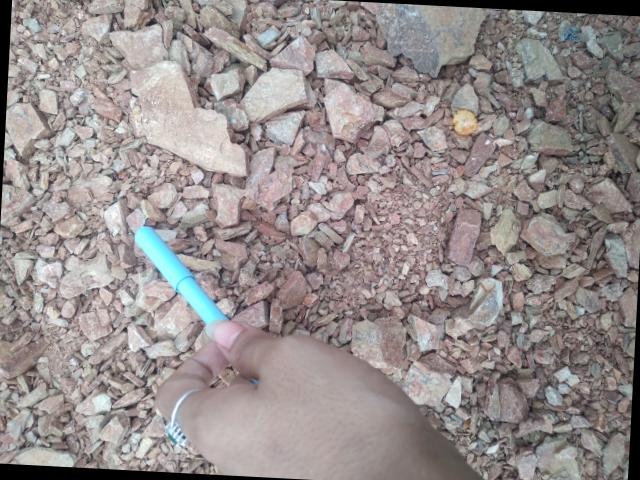PEN: (95, 121, 263, 271)
